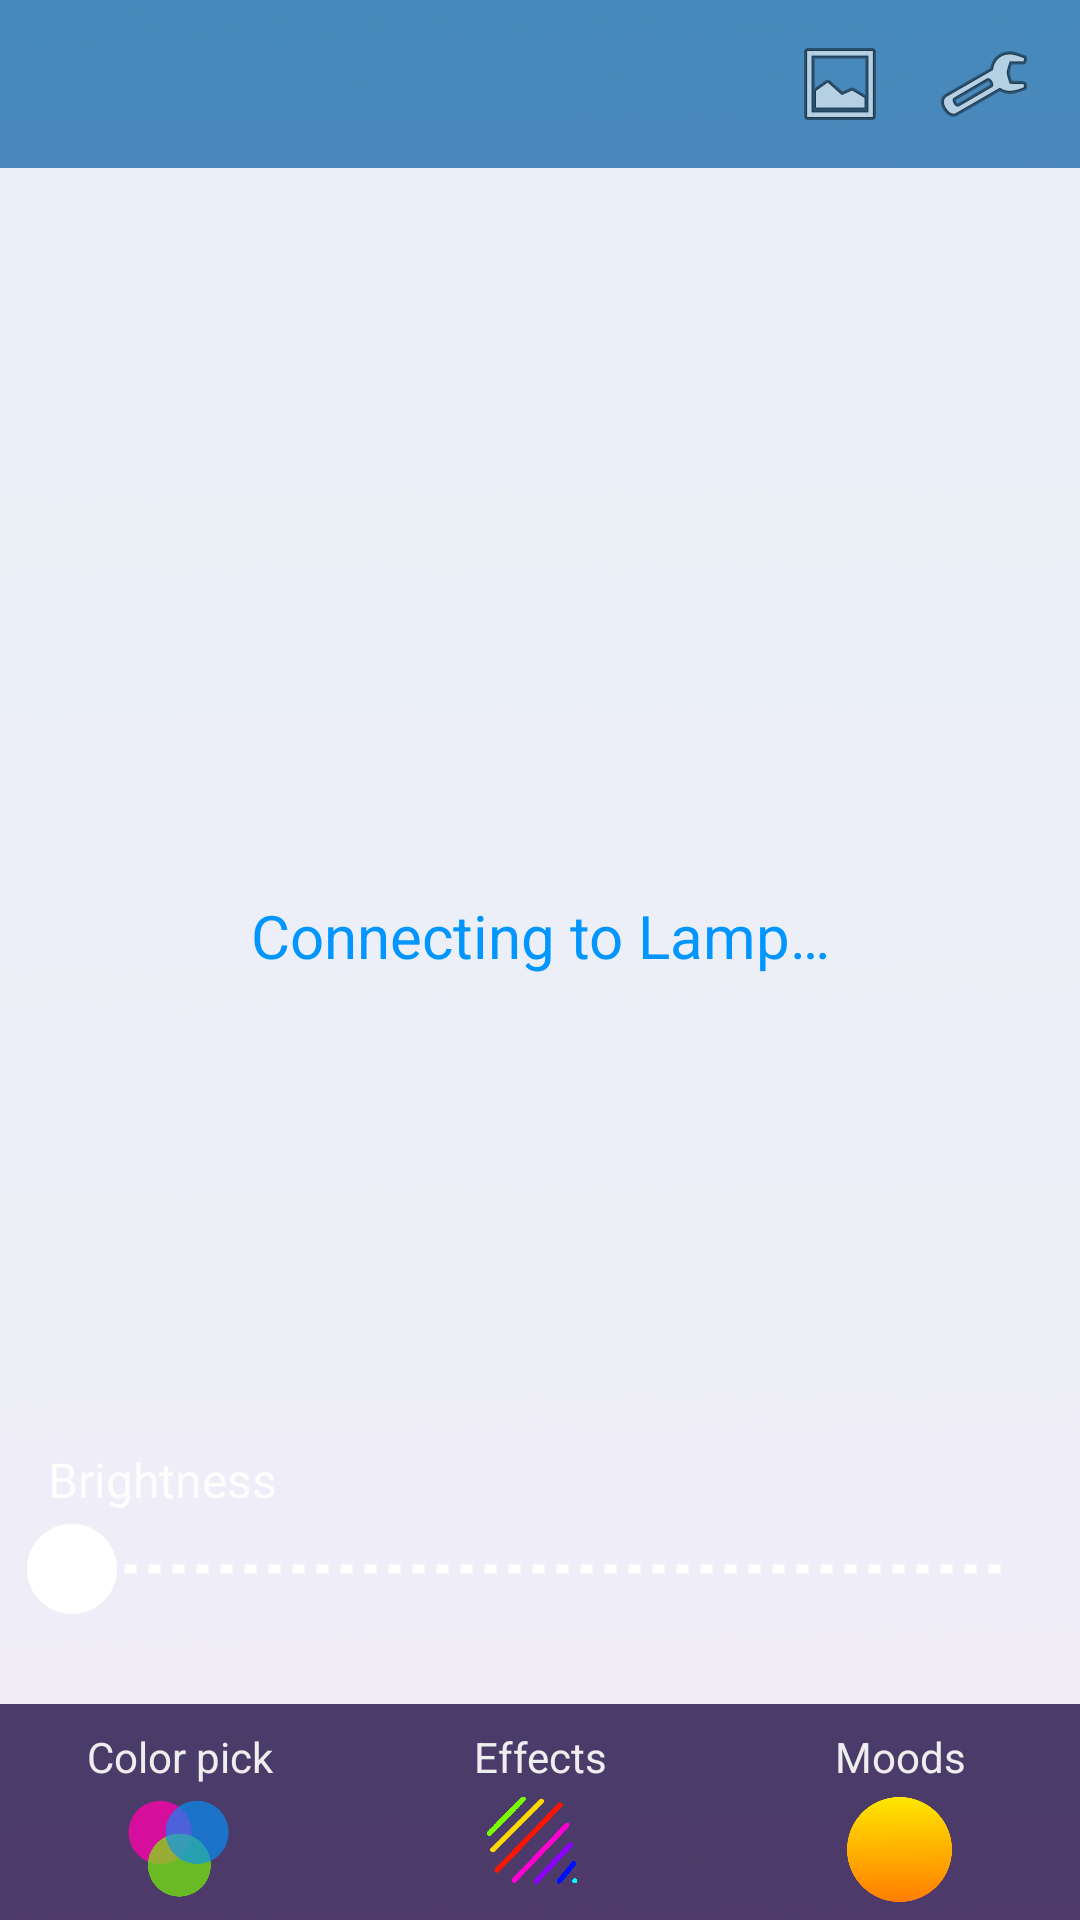

Locate icon controls on the screen. Image size 1080 x 1920, boxes as bbox(x1, y1, x2, y2).
blend: bbox(128, 1801, 229, 1897)
gallery: bbox(804, 48, 876, 120)
preferences: bbox(941, 51, 1027, 117)
